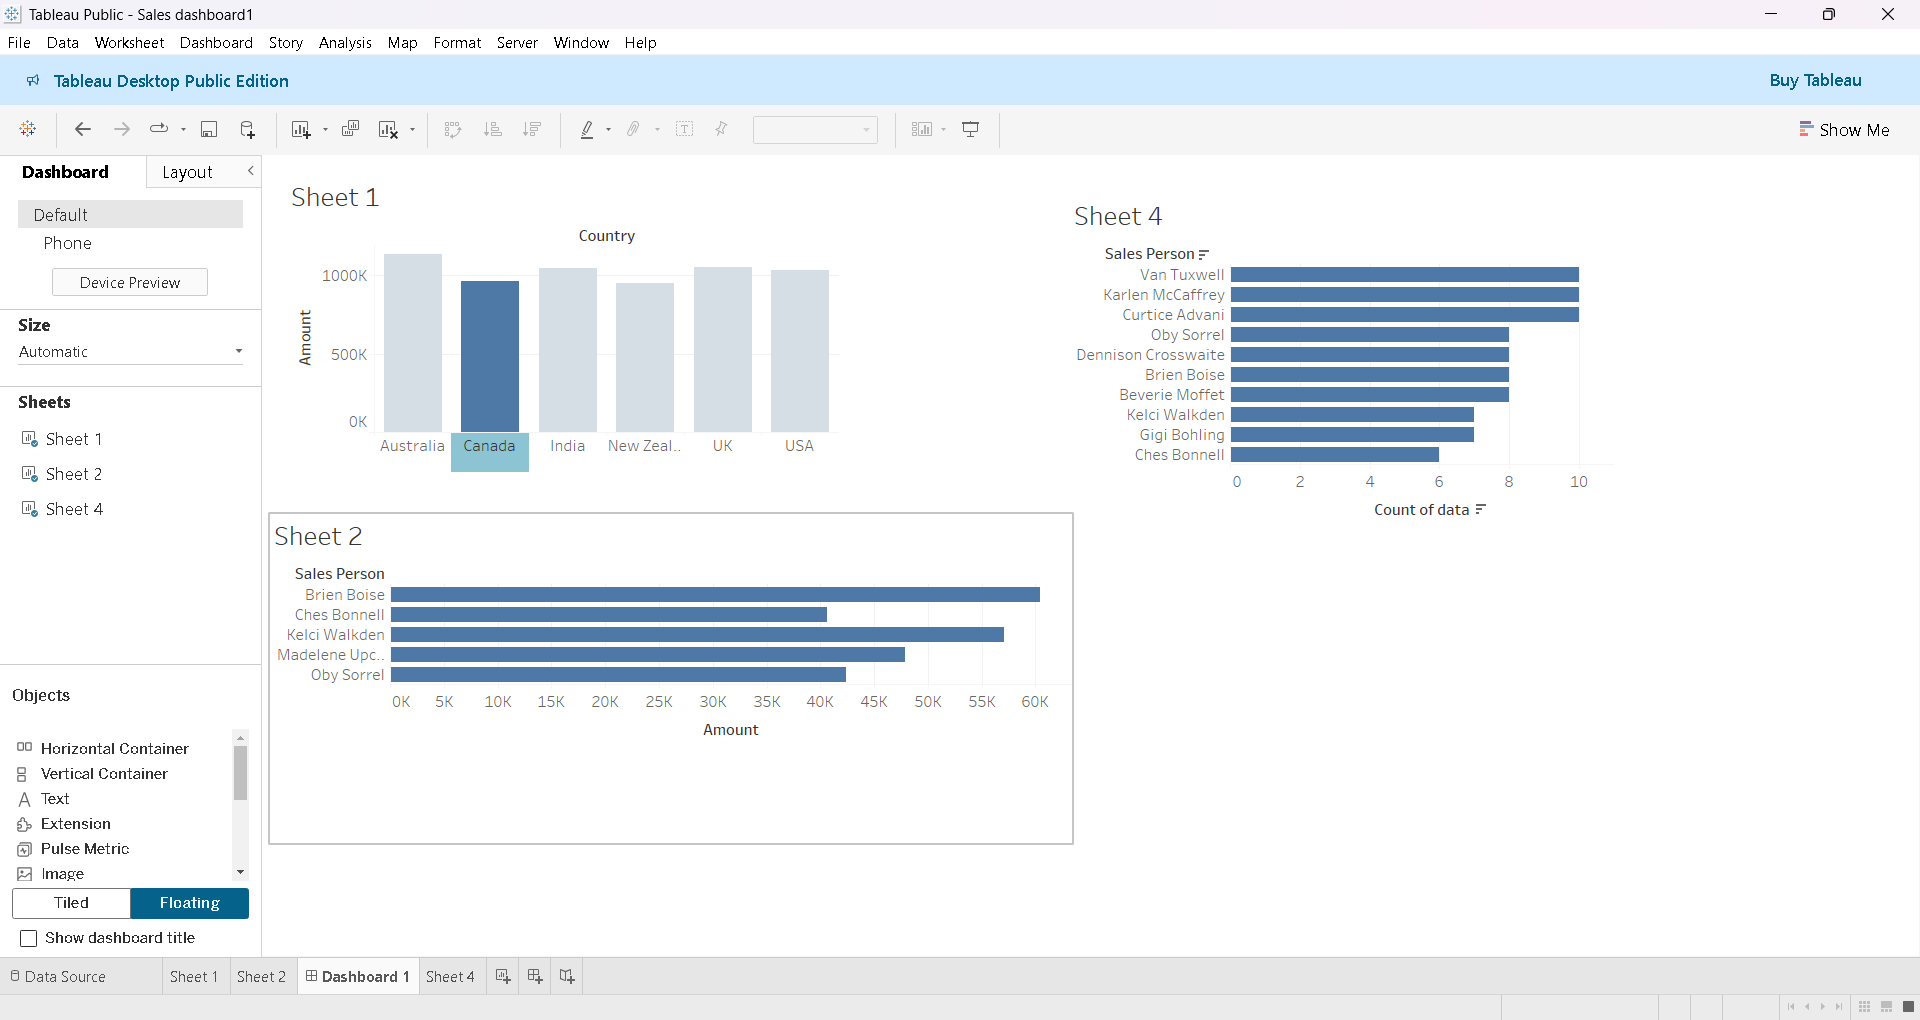

What the dashboard file says about the page in this screenshot:
{"tool":"tableau","page":{"name":"Dashboard 1","canvas":[1000,1000],"units":"permille","ordinal":0},"visuals":[{"type":"worksheet","title":"Sheet 1","mark":"Automatic","rows":["Amount"],"cols":["Country"],"box":[15.1,25,333.1,370.8]},{"type":"worksheet","title":"Sheet 4","mark":"Automatic","rows":["Sales Person"],"cols":["data_577F45CE8A0F48AABE24F3C329BB13F7"],"box":[487.6,48.7,328.3,765.3]},{"type":"worksheet","title":"Sheet 2","mark":"Automatic","rows":["Sales Person"],"cols":["Amount"],"box":[4.8,448.2,484,410.7]}]}

Visuals, with their boxes on the dashboard's canvas, which has no fixed pixel size, in thousandths of its width and height (x1, y1, x2, y2). These are canvas units, not pixel positions in the 1920x1020 screenshot, which may show the page scaled, cropped or inside an application window:
"Sheet 1" worksheet: x1=15 y1=25 x2=348 y2=396
"Sheet 4" worksheet: x1=488 y1=49 x2=816 y2=814
"Sheet 2" worksheet: x1=5 y1=448 x2=489 y2=859
